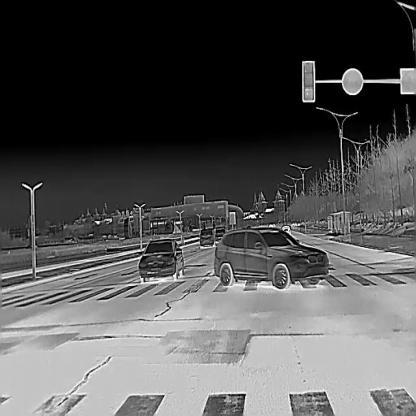car: (213, 227, 329, 289), (138, 238, 183, 282), (199, 228, 214, 249), (214, 225, 226, 241), (281, 224, 290, 234)
